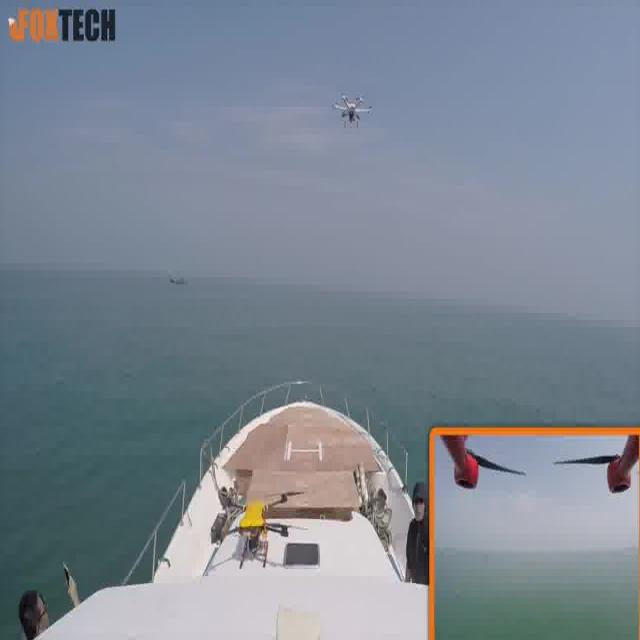drone: (333, 90, 371, 127)
